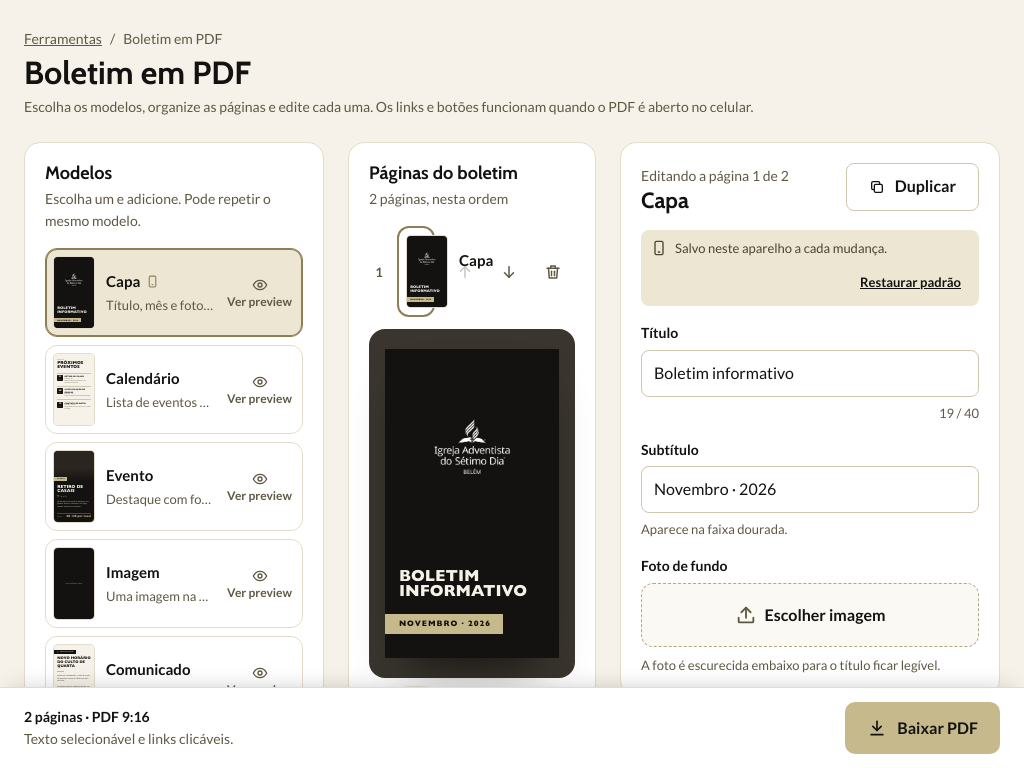
BulletinEditor › updates the preview while typing
Step 1. Replace the text in the field labelled "Título" with "Boletim de dezembro" → (810, 373), box [641,350,979,397]
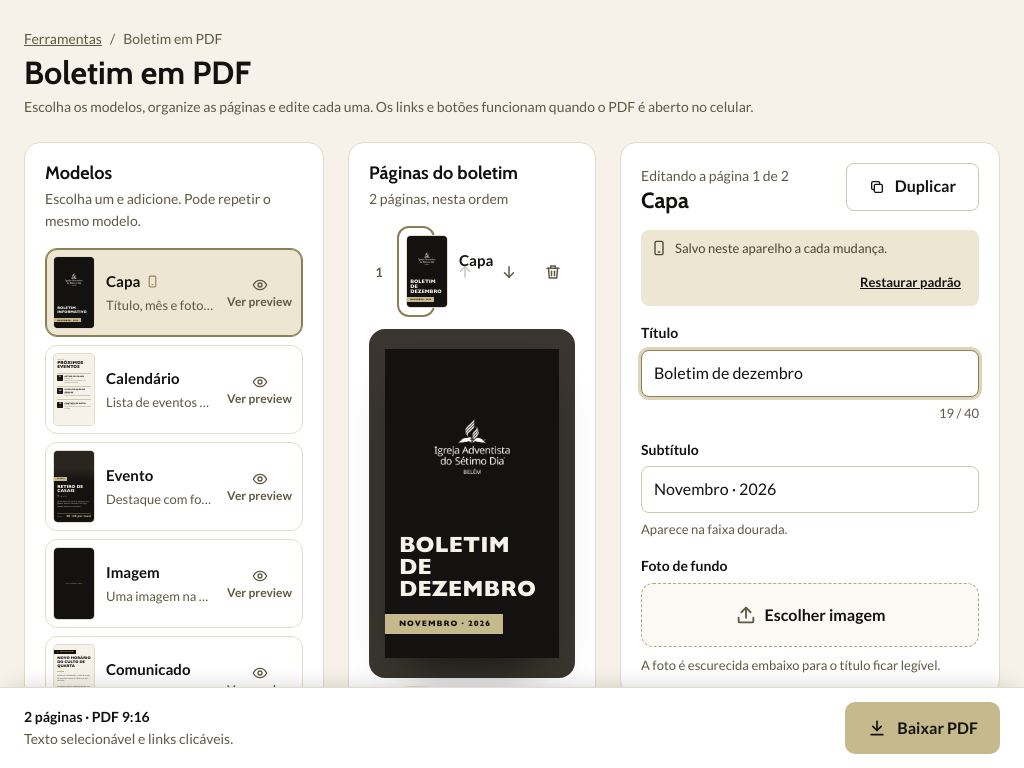
Now the 1st heading "Boletim de dezembro" is shown, box [410,278,444,294]
